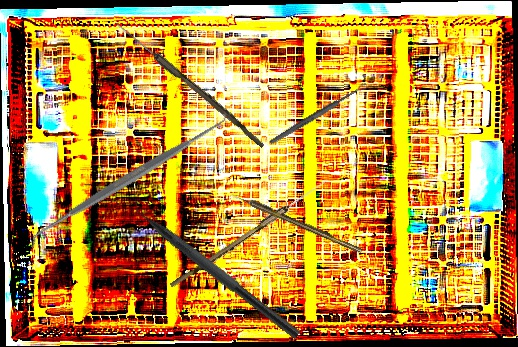Chopper: (120, 188, 310, 340)
Hook Surgical: (229, 190, 364, 255)
Spatula Surgical: (20, 107, 237, 252)
Surgical Spoon: (113, 20, 268, 149), (169, 175, 330, 292), (268, 82, 369, 146)
